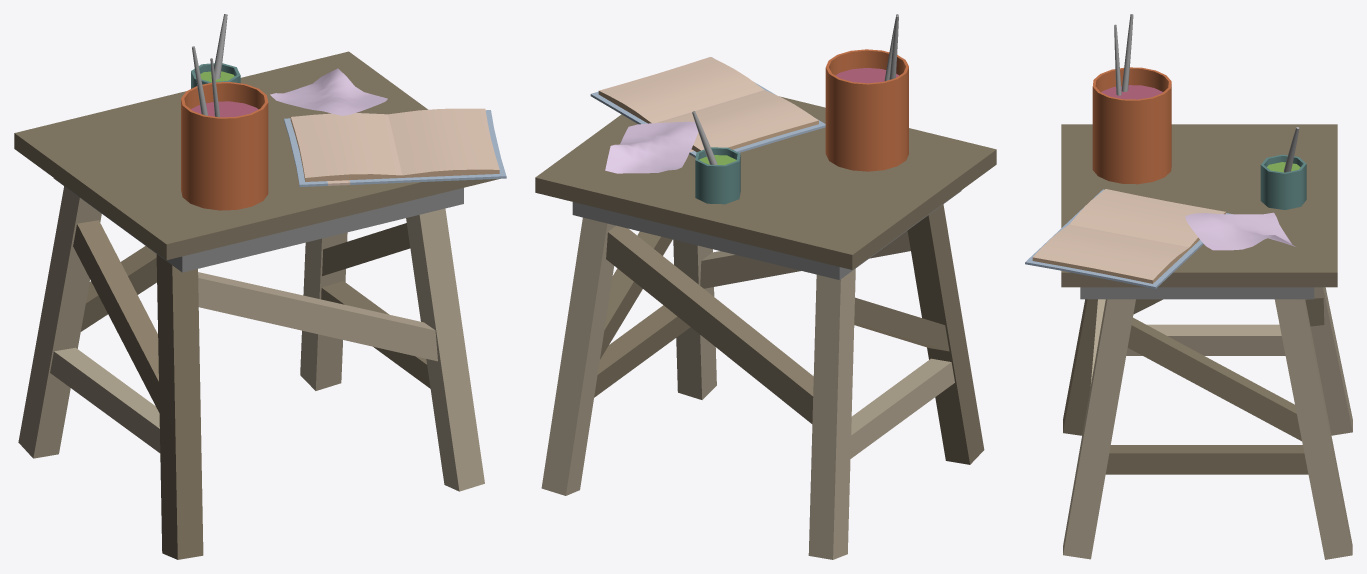
File: tabouret.fbx
The picture shows the model from 3 angles, left to right: view 1: azimuth 30°, elevation 25°; view 2: azimuth 150°, elevation 25°; view 3: azimuth 270°, elevation 25°; orthographic projection. The views are drawn at different scales.
Visible parts, largest first — view 1: tabouret; view 2: tabouret; view 3: tabouret.
Part boxes in pixels (<box>): tabouret: <box>14,14,506,559</box>; tabouret: <box>535,14,996,559</box>; tabouret: <box>1025,14,1352,559</box>.
Size of the model in its own units: 74.93 by 91.08 by 62.14.
